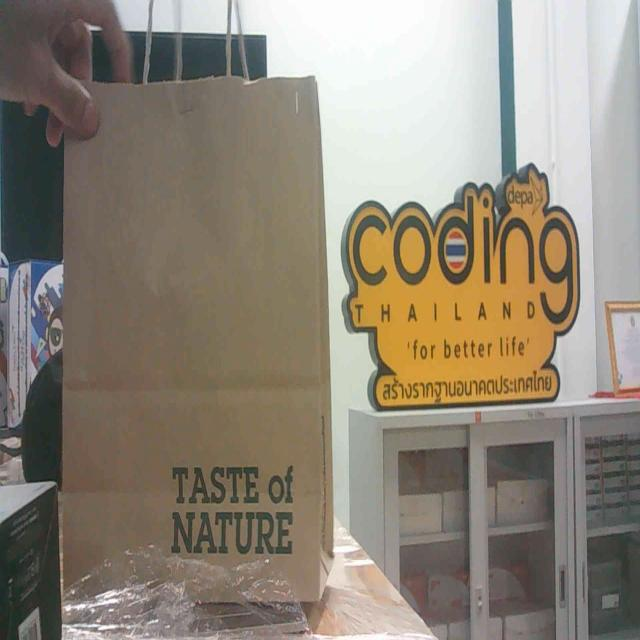bag: (56, 92, 322, 600)
